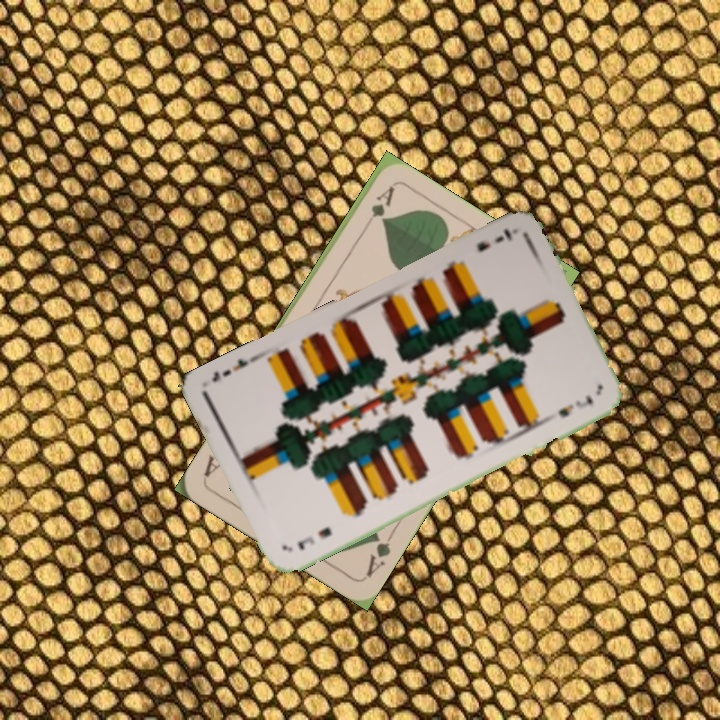E7: (473, 224, 515, 254), (293, 523, 334, 553)
GA: (358, 183, 397, 236), (362, 526, 398, 580)
